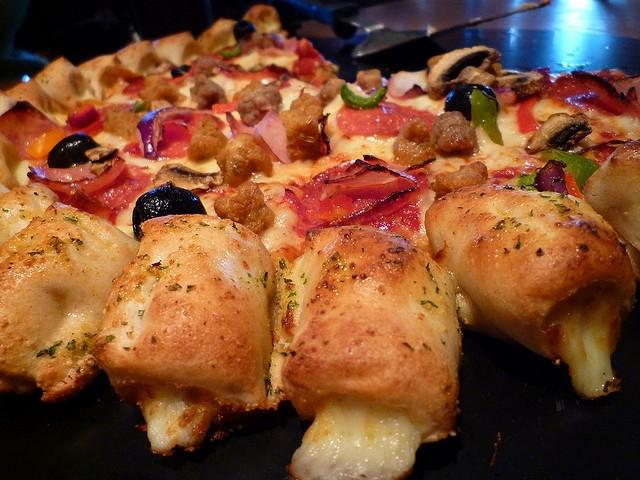bell pepper: (540, 149, 601, 195), (470, 89, 504, 146), (341, 83, 388, 109), (516, 170, 540, 191), (218, 44, 240, 56), (130, 100, 146, 112)
mushroom: (428, 46, 501, 98), (528, 112, 592, 154)
